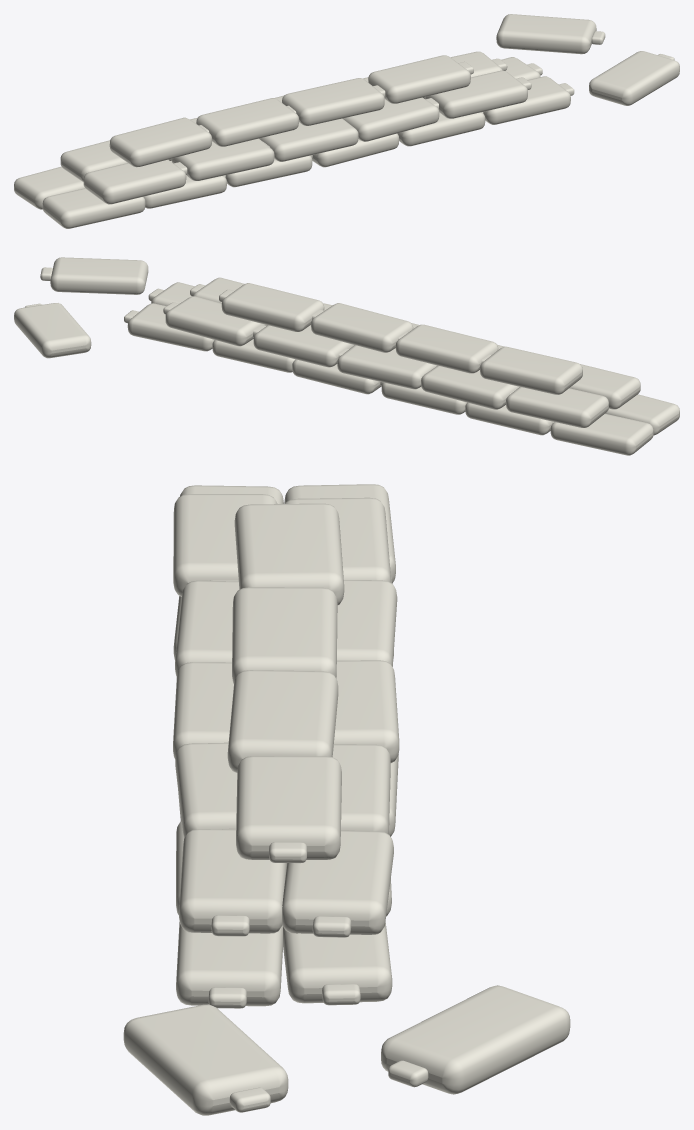
File: sandbag_stack.glb
3 views of the same model, one above another, from view 1: azimuth 30°, elevation 25°; view 2: azimuth 150°, elevation 25°; view 3: azimuth 270°, elevation 25° (orthographic). The views are drawn at different scales.
Visible parts, largest first — view 1: sandbag_wall, loose_sandbags; view 2: sandbag_wall, loose_sandbags; view 3: sandbag_wall, loose_sandbags.
Part boxes in pixels (x1=…): sandbag_wall: x1=14, y1=51, x2=574, y2=228; loose_sandbags: x1=496, y1=14, x2=679, y2=105; sandbag_wall: x1=124, y1=277, x2=679, y2=455; loose_sandbags: x1=14, y1=257, x2=148, y2=358; sandbag_wall: x1=173, y1=484, x2=399, y2=1008; loose_sandbags: x1=123, y1=985, x2=570, y2=1115.
Size of the model in its own units: 4.56 by 0.336 by 1.41.
1 material, 1 textured.
